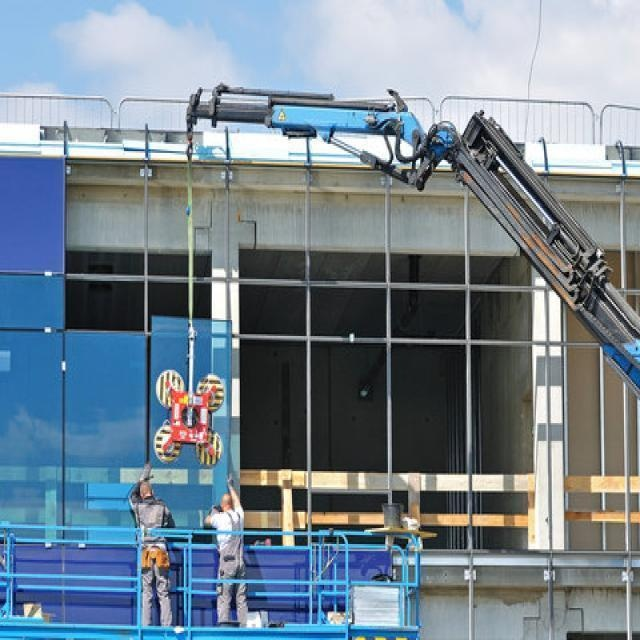Arnes_seguridad: (140, 544, 169, 569)
